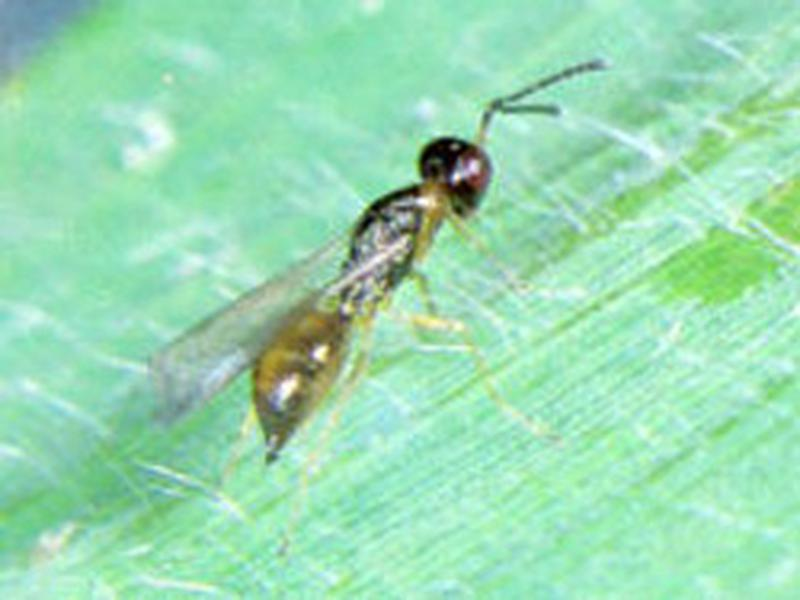Whorl_maggot: (239, 127, 501, 460)
